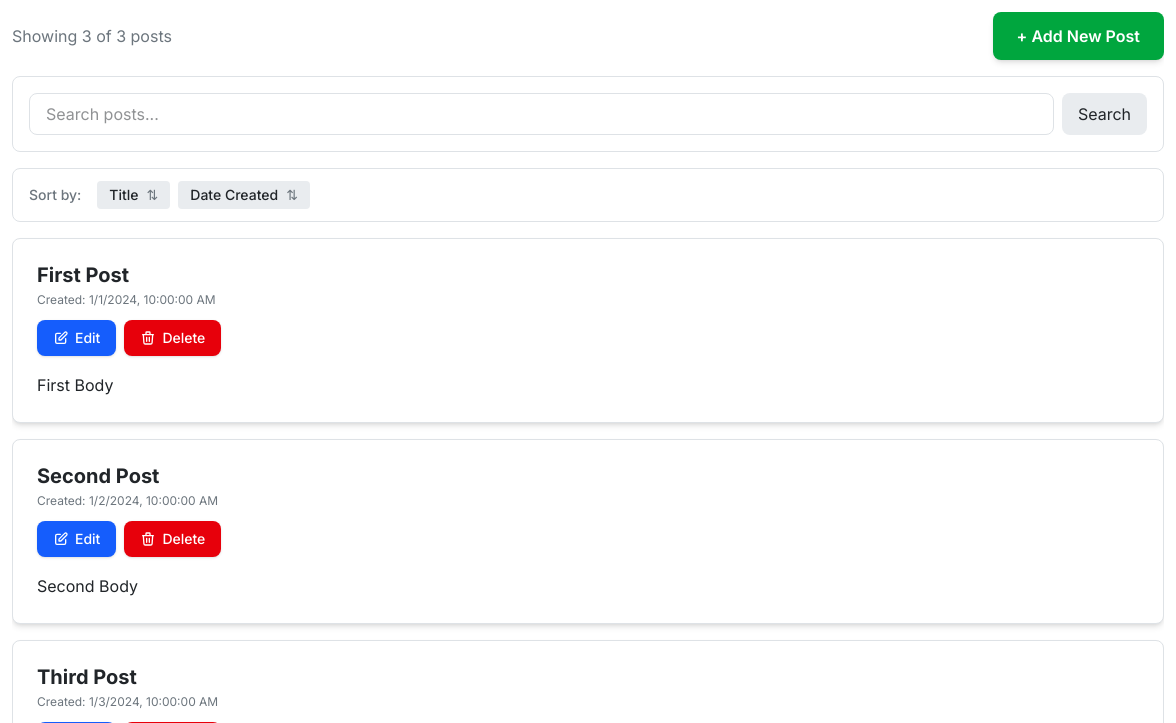
Test: PostsTable Component › Search Functionality › should filter posts by search query
Expected: the heading "First Post" is shown, [37,263,129,287]
Type "Second" into the field with placeholder "Search posts..." at (541, 114), box [29,93,1054,135]
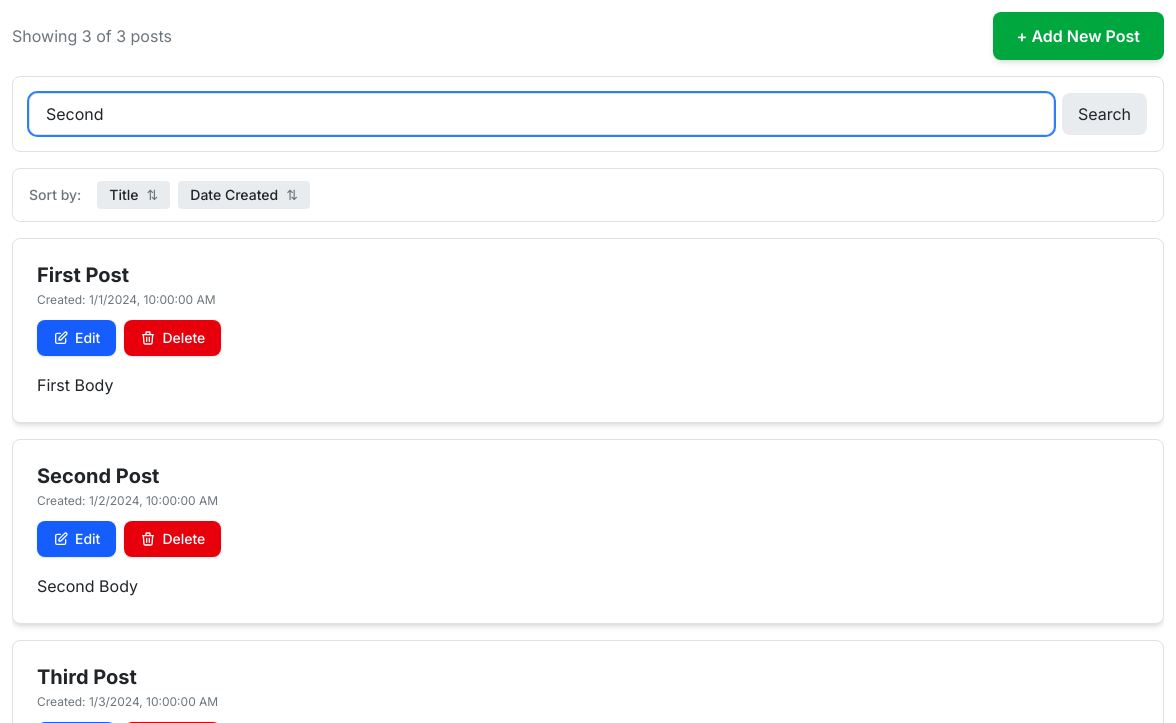
Click the button with aria-label "submit search" at (1104, 114), box [1062,93,1147,135]
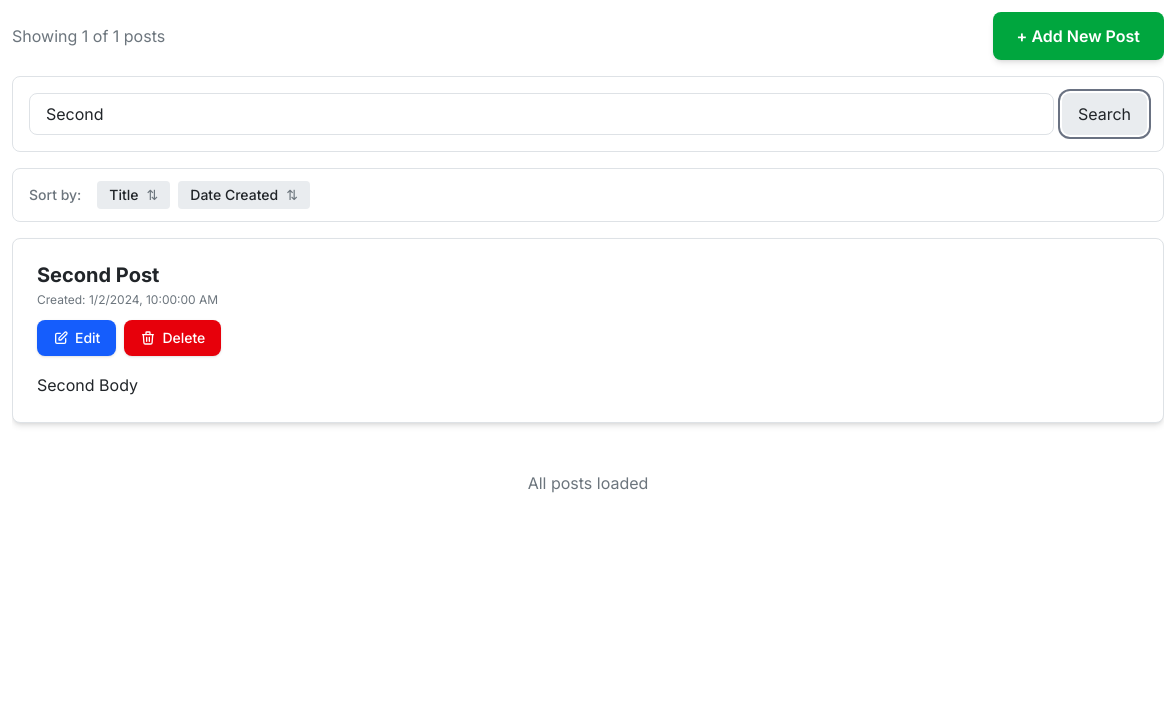
Expected: the heading "Second Post" is shown, [37,263,159,287]
Expected: the heading "First Post" is gone
Expected: the heading "Third Post" is gone
